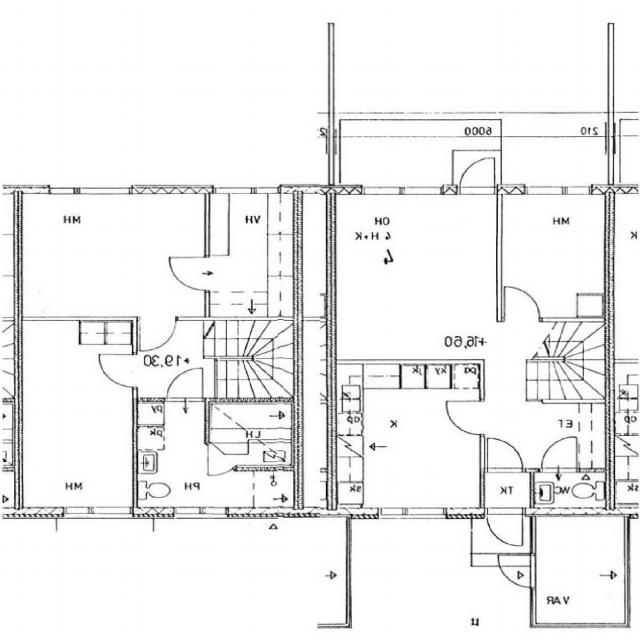door: (183, 443, 235, 490), (441, 401, 485, 435), (492, 555, 536, 588), (488, 508, 523, 549), (460, 155, 494, 194), (168, 258, 209, 290), (167, 366, 203, 402), (97, 354, 137, 386), (542, 437, 578, 472), (140, 317, 176, 352), (488, 437, 523, 472)
